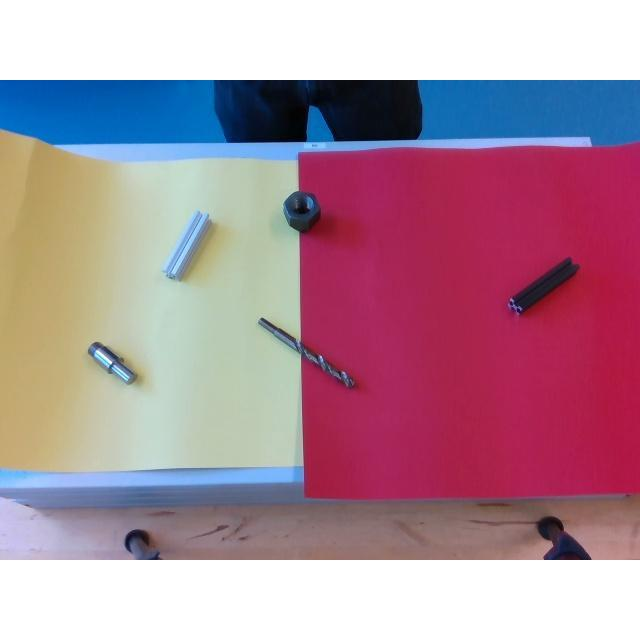Axis2: (87, 341, 137, 385)
Drill: (258, 319, 354, 387)
F20_20_B: (508, 258, 580, 312)
F20_20_G: (162, 210, 210, 278)
M30: (284, 190, 320, 230)
